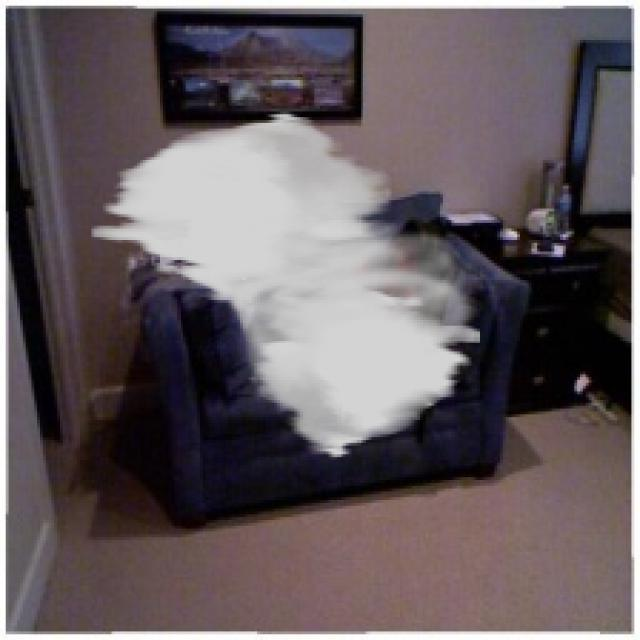Smoke: (91, 111, 483, 460)
